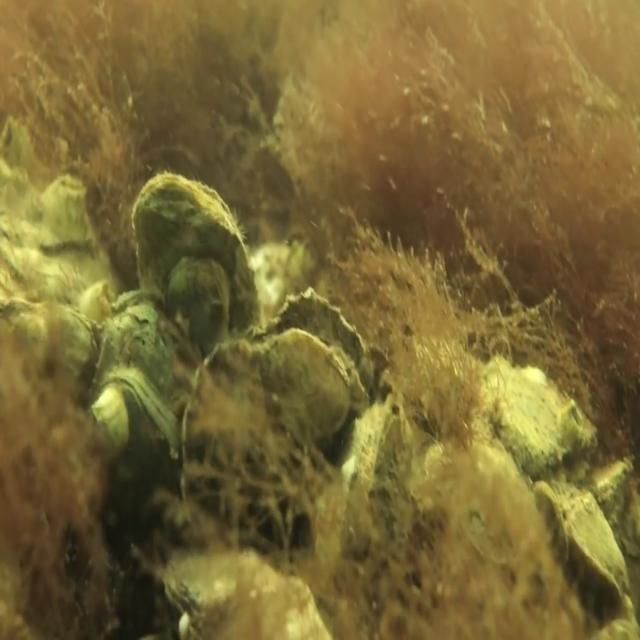Oyster-Closed: (124, 155, 270, 343), (162, 534, 337, 639), (89, 365, 184, 484), (557, 474, 635, 614), (0, 294, 102, 377)
Oyster-Indeterminate: (176, 325, 355, 509), (480, 350, 601, 474), (270, 278, 373, 414)
